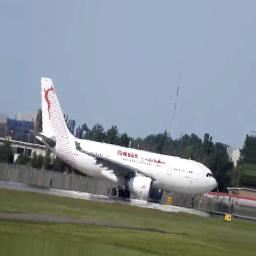Airplane: (30, 75, 217, 201)
